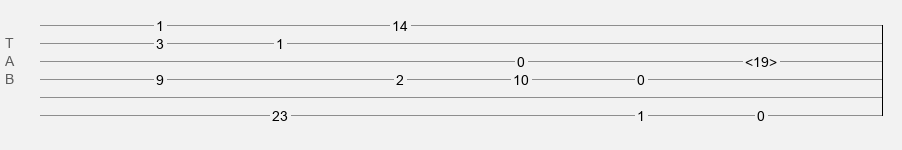0: (517, 54, 525, 64), (637, 72, 645, 82), (757, 108, 765, 118)
1: (156, 18, 164, 28), (276, 36, 284, 46), (637, 108, 645, 118)
10: (513, 72, 529, 82)
14: (392, 18, 408, 28)
2: (396, 72, 404, 82)
23: (272, 108, 288, 118)
3: (156, 36, 164, 46)
9: (156, 72, 164, 82)
harmonic: (745, 54, 777, 64)
